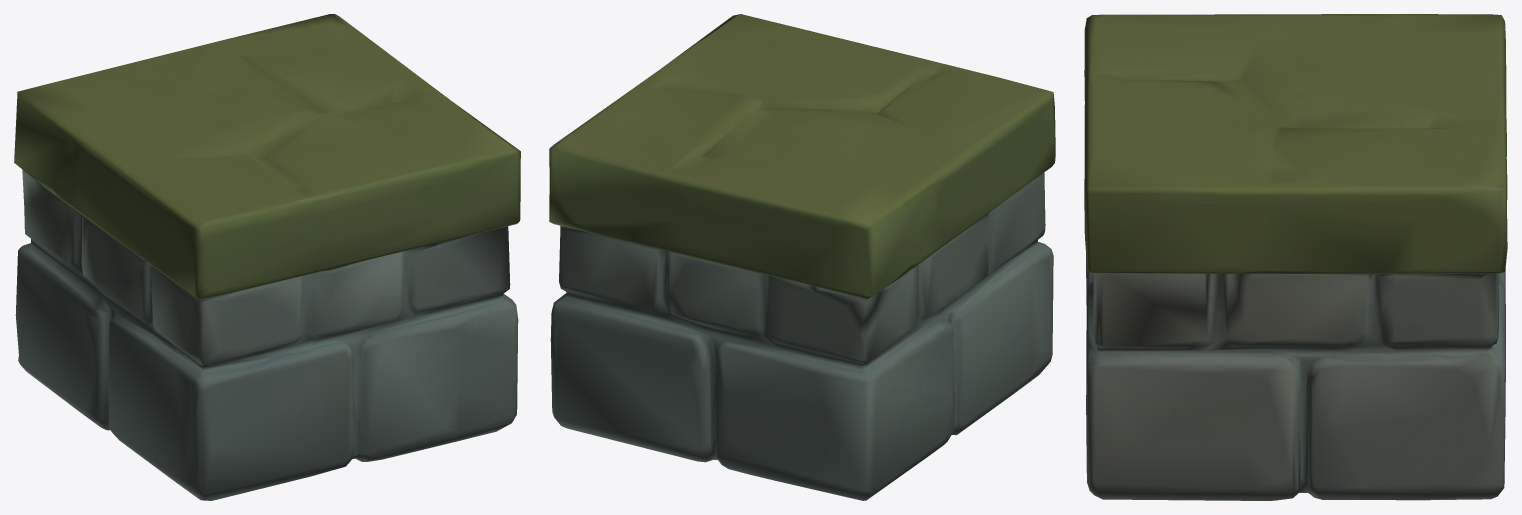
File: grass_v7_orm.med2.glb
3 renders of one model, left to right at view 1: azimuth 30°, elevation 25°; view 2: azimuth 150°, elevation 25°; view 3: azimuth 270°, elevation 25°, orthographic. The views are drawn at different scales.
Visible parts, largest first — view 1: tripo_node_4502d38e-2dda-4b25-8010-c4ac6b404b5c; view 2: tripo_node_4502d38e-2dda-4b25-8010-c4ac6b404b5c; view 3: tripo_node_4502d38e-2dda-4b25-8010-c4ac6b404b5c.
Boxes of the visible parts, x1,y1,x2,y2 form: tripo_node_4502d38e-2dda-4b25-8010-c4ac6b404b5c: [14, 14, 520, 500]; tripo_node_4502d38e-2dda-4b25-8010-c4ac6b404b5c: [549, 14, 1055, 500]; tripo_node_4502d38e-2dda-4b25-8010-c4ac6b404b5c: [1084, 14, 1507, 500].
Size of the model in its own units: 0.9953 by 0.841 by 0.9994.
Materials: 1 (1 with a texture image).
